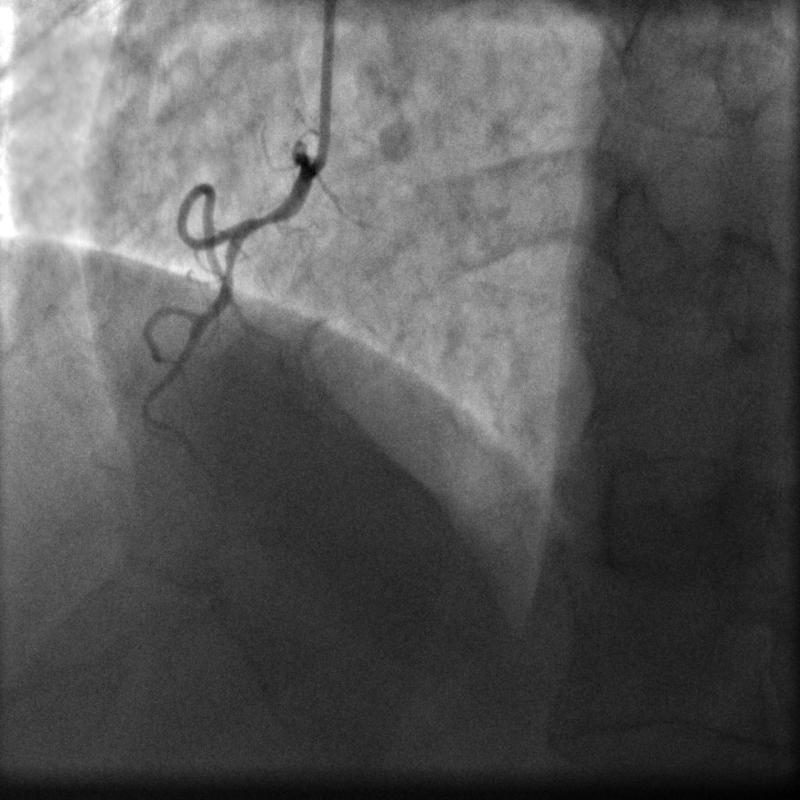Stenosis: (248, 203, 282, 237)
